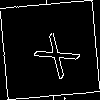X: (25, 25, 82, 81)
